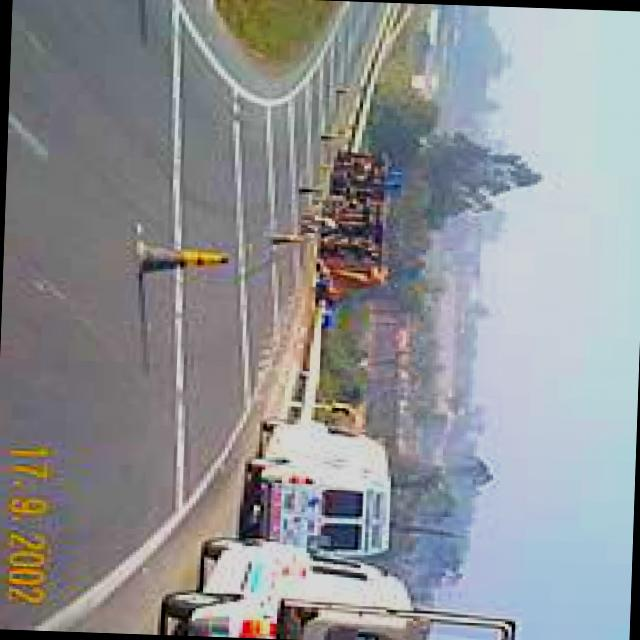cone: (133, 236, 230, 282)
